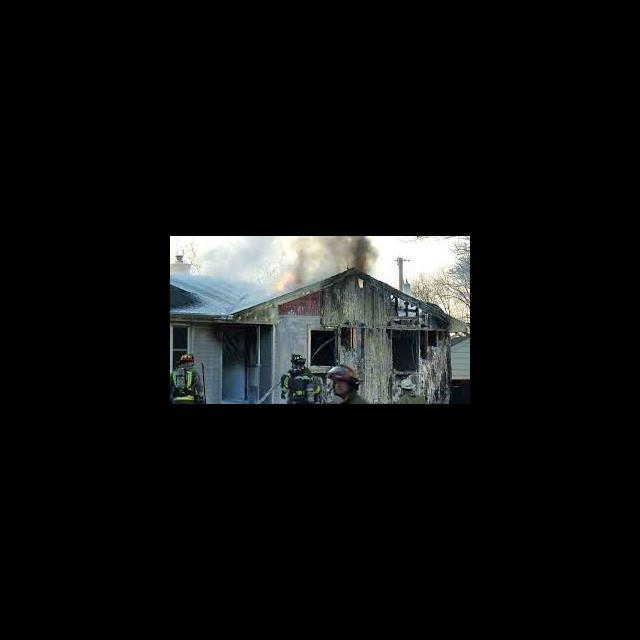Fire: (274, 272, 292, 293)
Smoke: (188, 240, 268, 298), (296, 239, 374, 281)
